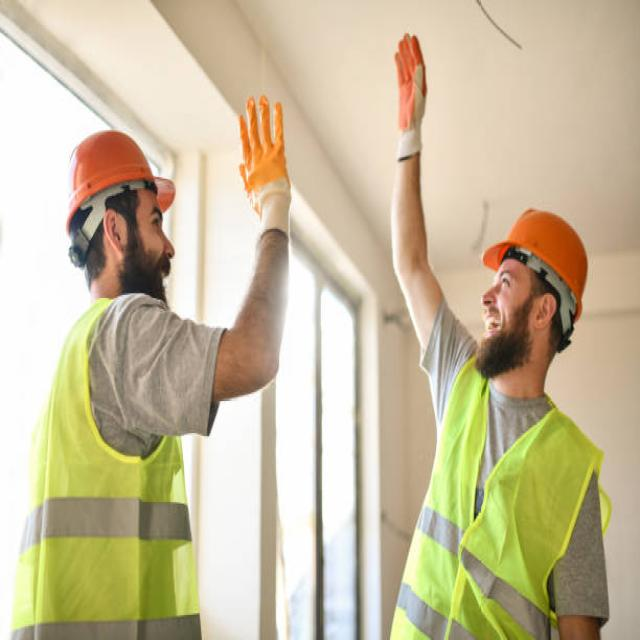Gloves: (236, 88, 302, 249), (389, 26, 436, 168)
Vest: (12, 297, 204, 640), (384, 350, 611, 640)
helmet: (58, 129, 184, 235), (478, 207, 592, 324)
person: (11, 89, 299, 640), (376, 27, 614, 640)
